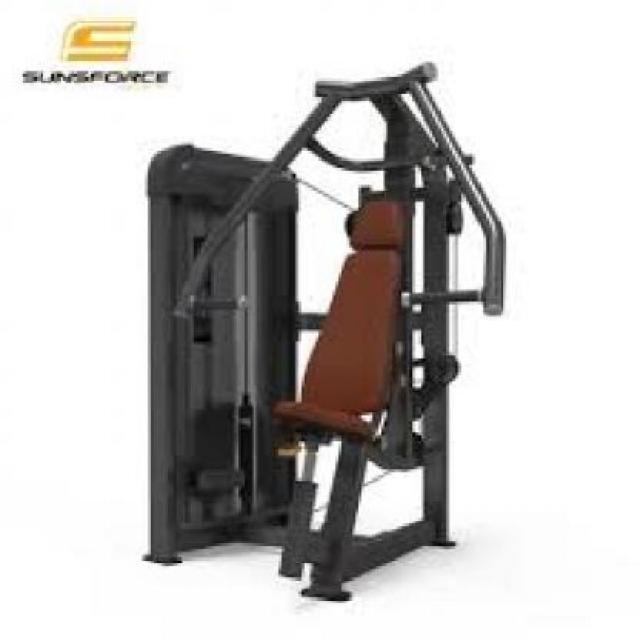Chest Press machine: (132, 60, 511, 623)
